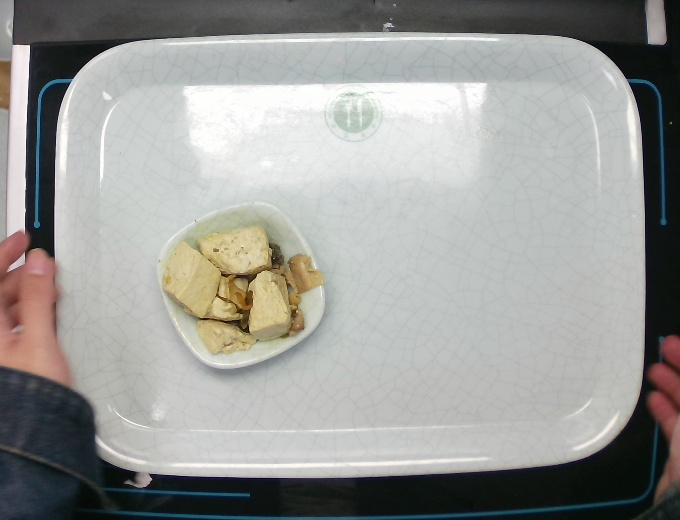JYsf-Si_Fang_Die: (156, 201, 332, 370)
